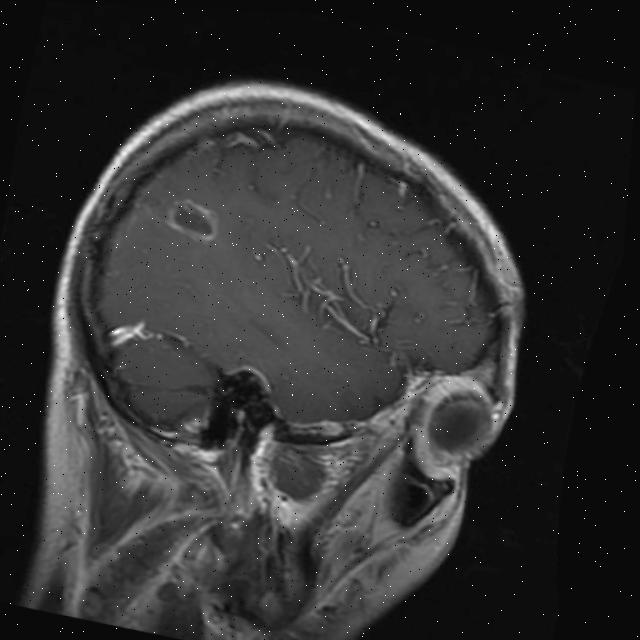Glioma: (162, 192, 227, 245)
